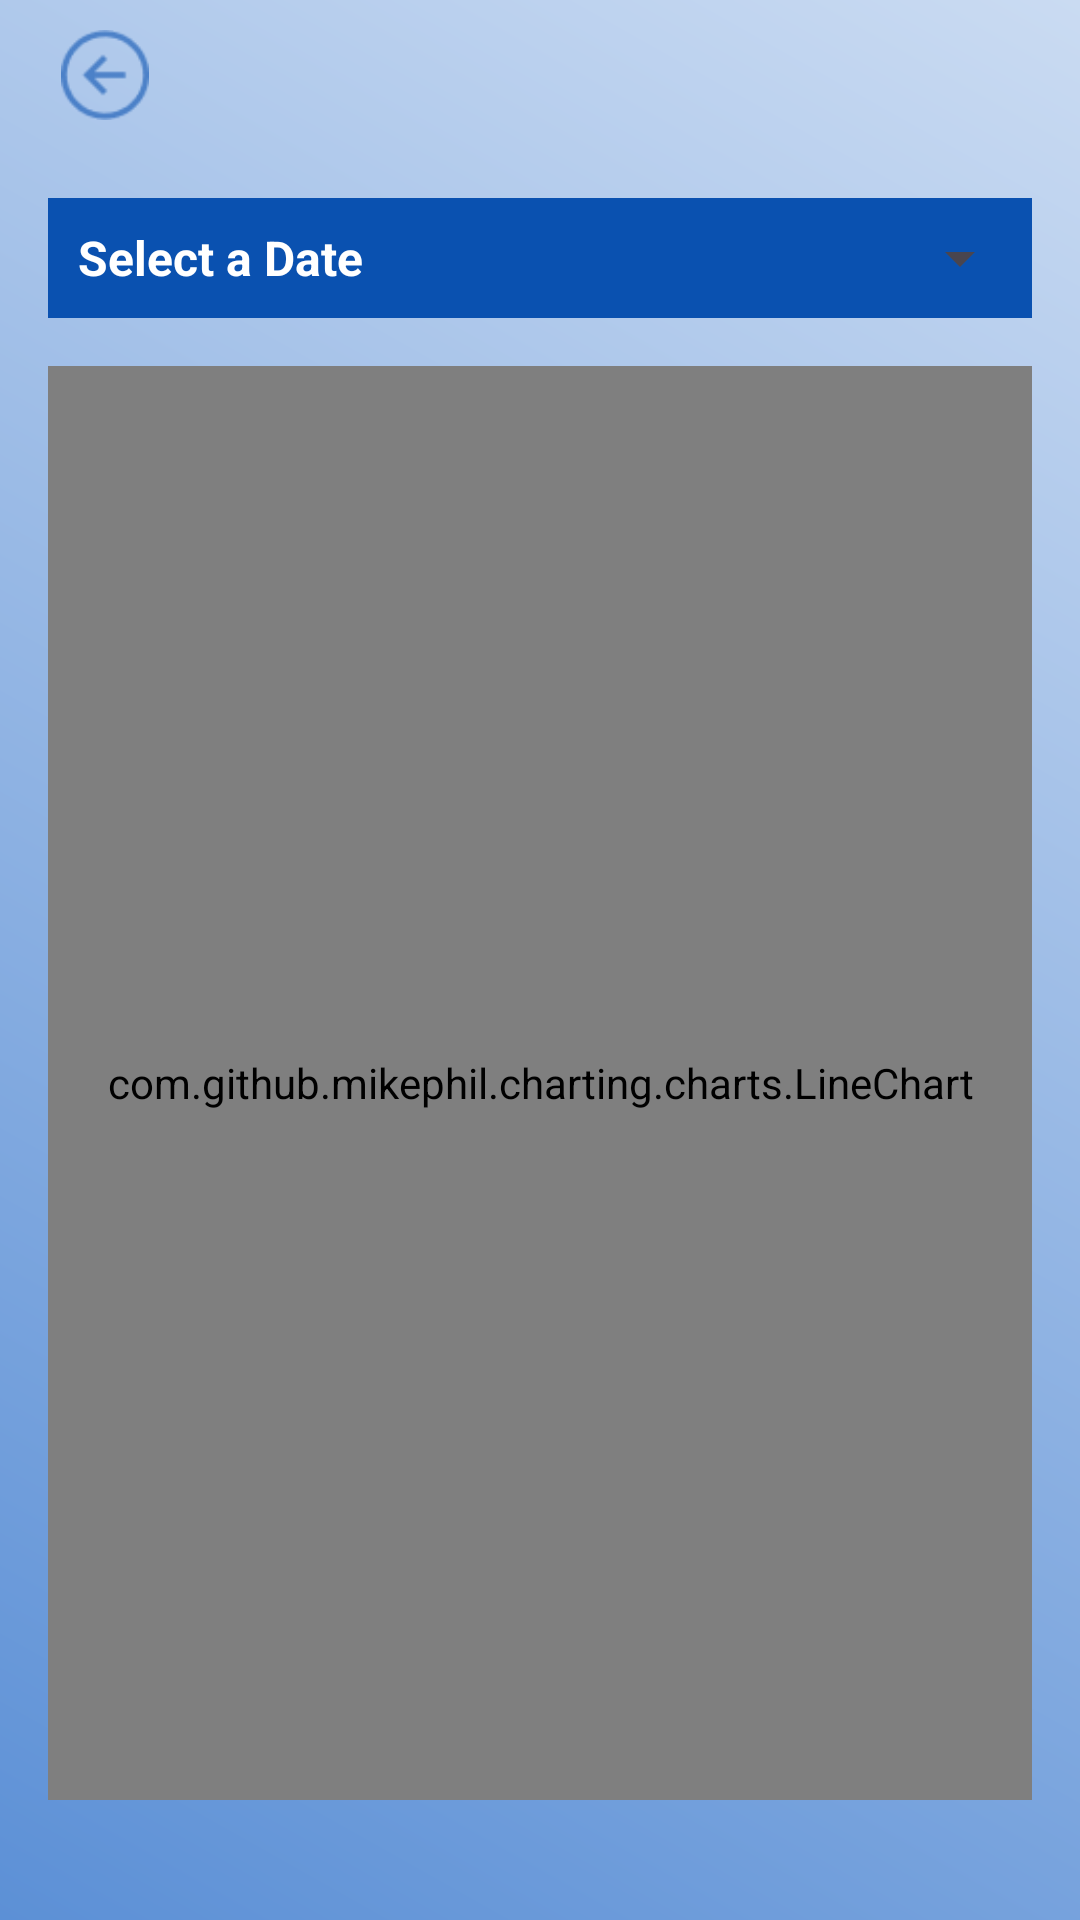

Where icons sit on this 1080 x 1920 app screen, as (x1, y1, x2, y2):
back: (61, 30, 149, 120)
